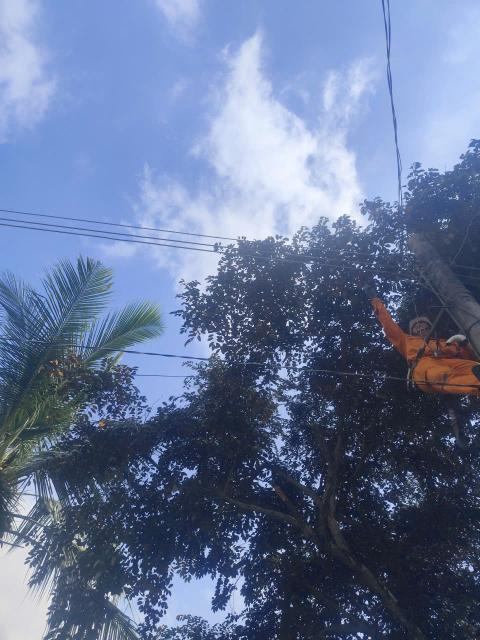gloves: (355, 279, 384, 299)
harness: (396, 353, 458, 370)
helmet: (400, 308, 436, 343)
